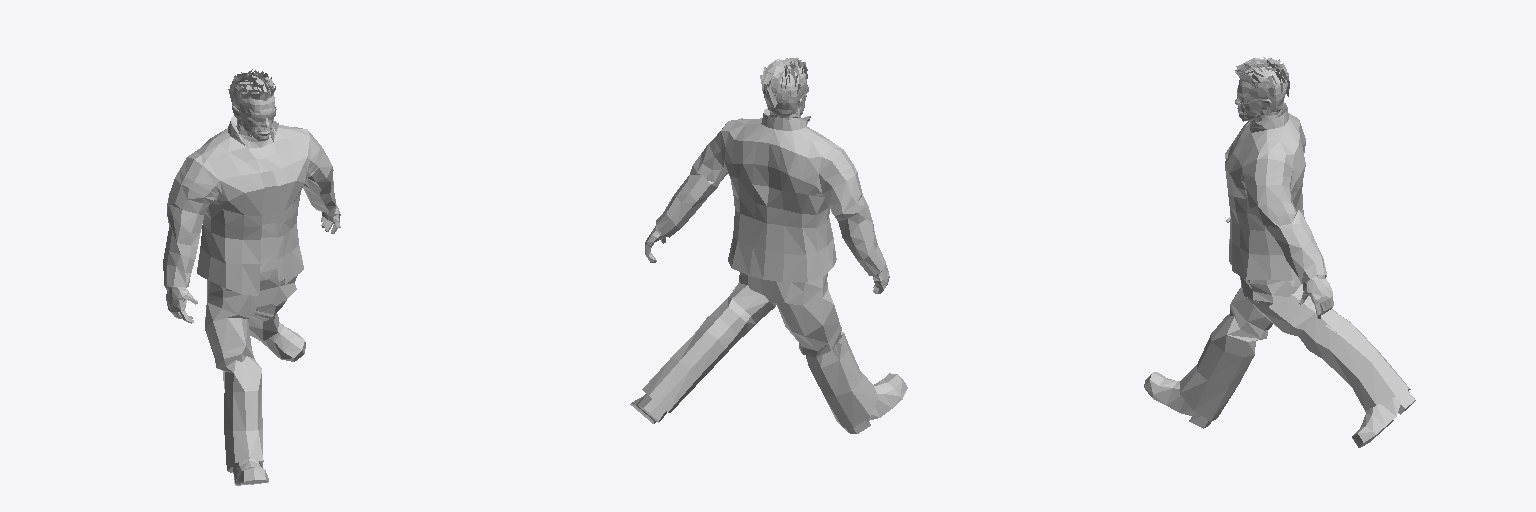
File: arnold_jumping.obj
The picture shows the model from 3 angles: view 1: azimuth 30°, elevation 25°; view 2: azimuth 150°, elevation 25°; view 3: azimuth 270°, elevation 25°; orthographic projection.
Parts seen in each view (by area): view 1: Arnold_T-850; view 2: Arnold_T-850; view 3: Arnold_T-850.
Part boxes in pixels (x1,y1,x2,y2): Arnold_T-850: (163, 69, 340, 485); Arnold_T-850: (630, 58, 907, 433); Arnold_T-850: (1144, 57, 1415, 447).
Size of the model in its own units: 2.03 by 3.62 by 2.33.